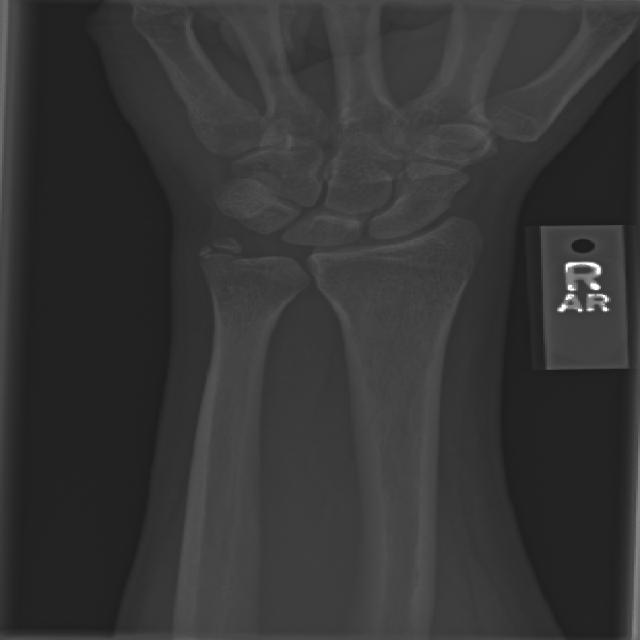wrist positive: (216, 237, 328, 295)
